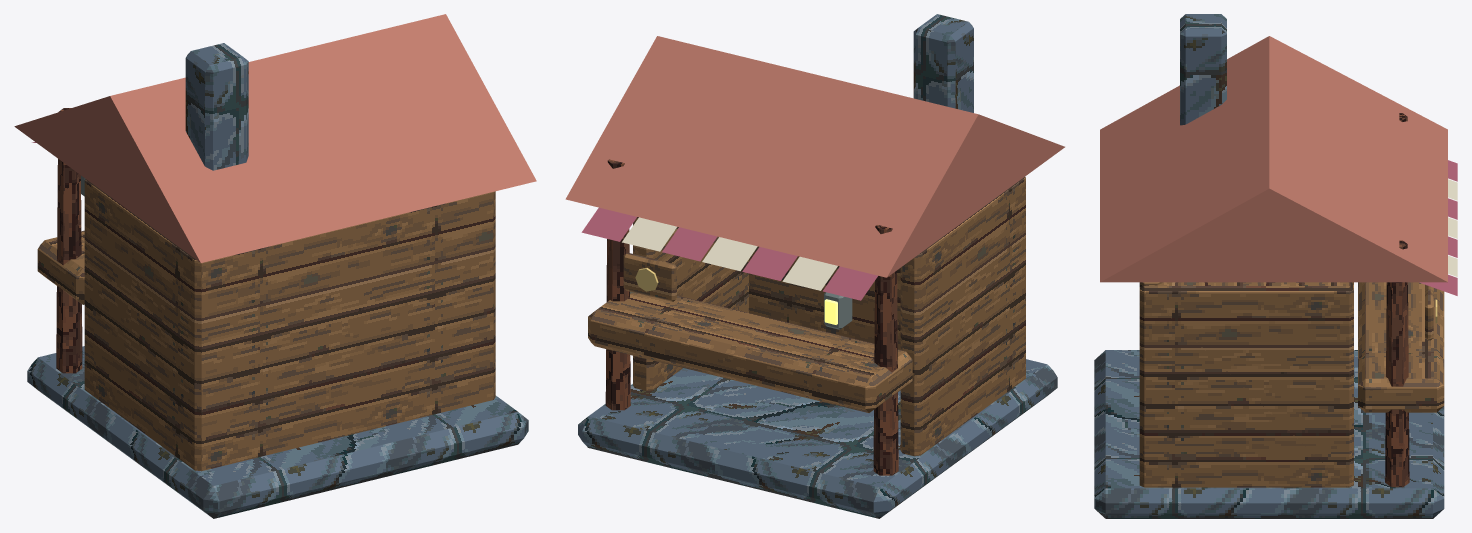
The model's file is loja_mascate.glb.
The picture shows the model from 3 angles, left to right: view 1: azimuth 30°, elevation 25°; view 2: azimuth 150°, elevation 25°; view 3: azimuth 270°, elevation 25°; orthographic projection. The views are drawn at different scales.
Parts seen in each view (by area): view 1: pedreira_loja_mascate; view 2: pedreira_loja_mascate; view 3: pedreira_loja_mascate.
Part boxes in pixels (<box>): pedreira_loja_mascate: <box>14,14,536,518</box>; pedreira_loja_mascate: <box>565,14,1064,518</box>; pedreira_loja_mascate: <box>1094,14,1457,518</box>.
Size of the model in its own units: 1.92 by 2.26 by 1.93.
Materials: 9 (3 with a texture image).
